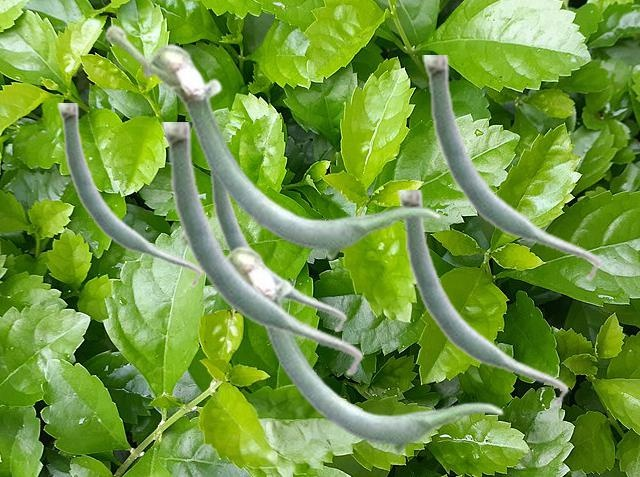french_bean: (104, 23, 441, 260), (179, 231, 503, 454), (161, 122, 363, 377), (422, 55, 601, 281), (397, 190, 568, 407), (57, 103, 202, 287), (205, 163, 346, 332)
